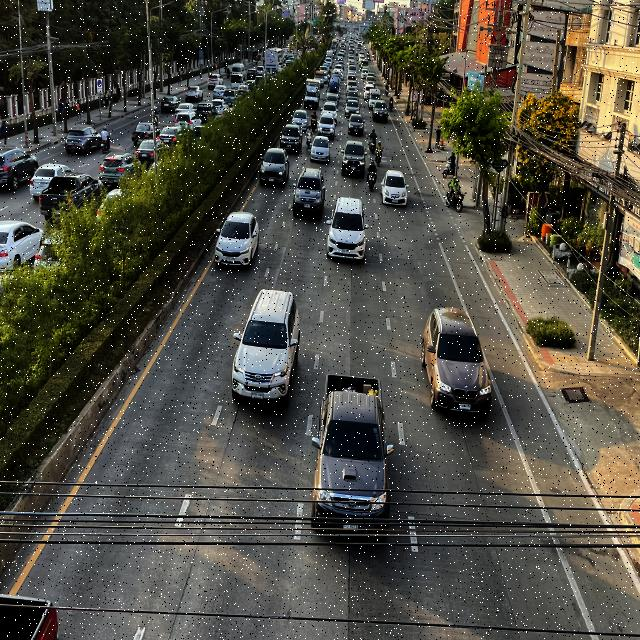bike: (443, 174, 467, 217), (367, 158, 378, 196), (374, 138, 386, 166), (305, 123, 313, 150), (369, 127, 377, 154), (311, 108, 318, 133)
truck: (302, 76, 322, 110)
